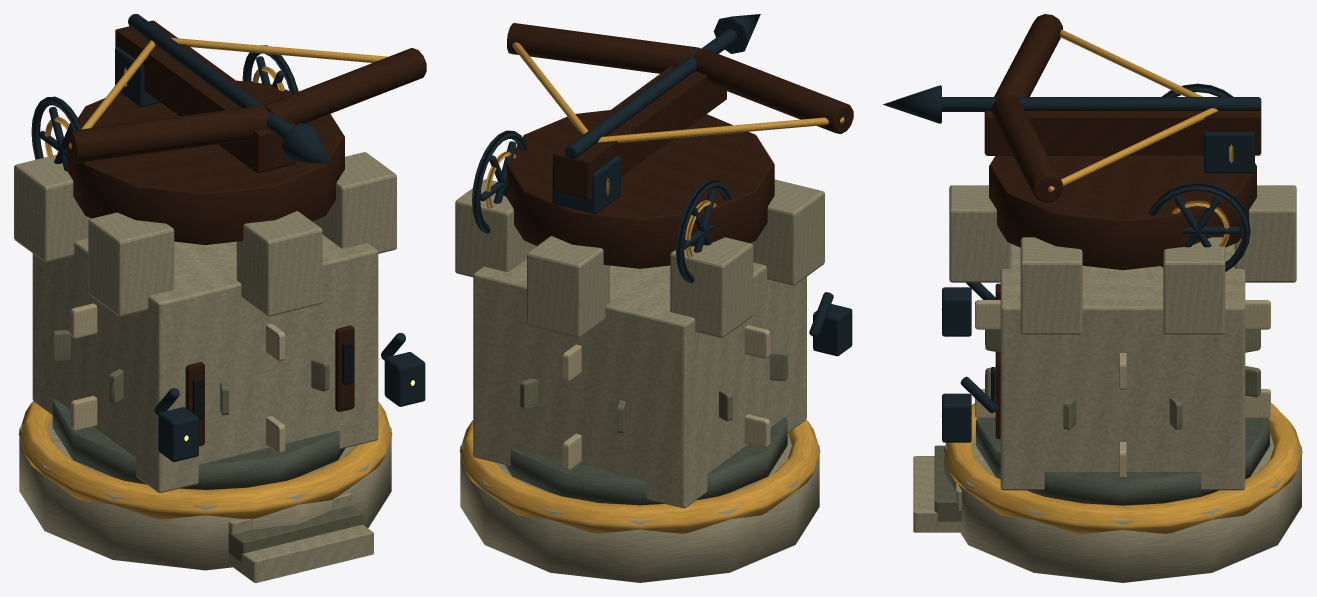
Rendered from tower-ballista-1-base.glb.
3 views of the same model, side by side, from view 1: azimuth 30°, elevation 25°; view 2: azimuth 150°, elevation 25°; view 3: azimuth 270°, elevation 25° (orthographic). The views are drawn at different scales.
Visible parts, largest first — view 1: Foundation, Turret, ballista-L1-base; view 2: Foundation, Turret, ballista-L1-base; view 3: Foundation, Turret, ballista-L1-base.
Part boxes in pixels (x1,y1,x2,y2): Foundation: (14, 152, 425, 582); Turret: (31, 14, 426, 244); ballista-L1-base: (19, 398, 391, 570); Foundation: (455, 179, 852, 533); Turret: (472, 14, 853, 283); ballista-L1-base: (460, 417, 819, 582); Foundation: (913, 185, 1302, 533); Turret: (883, 14, 1261, 271); ballista-L1-base: (944, 418, 1301, 582).
Bounding box in the file's own units: 1.83 × 2.19 × 1.97.
10 materials, 10 textured.
